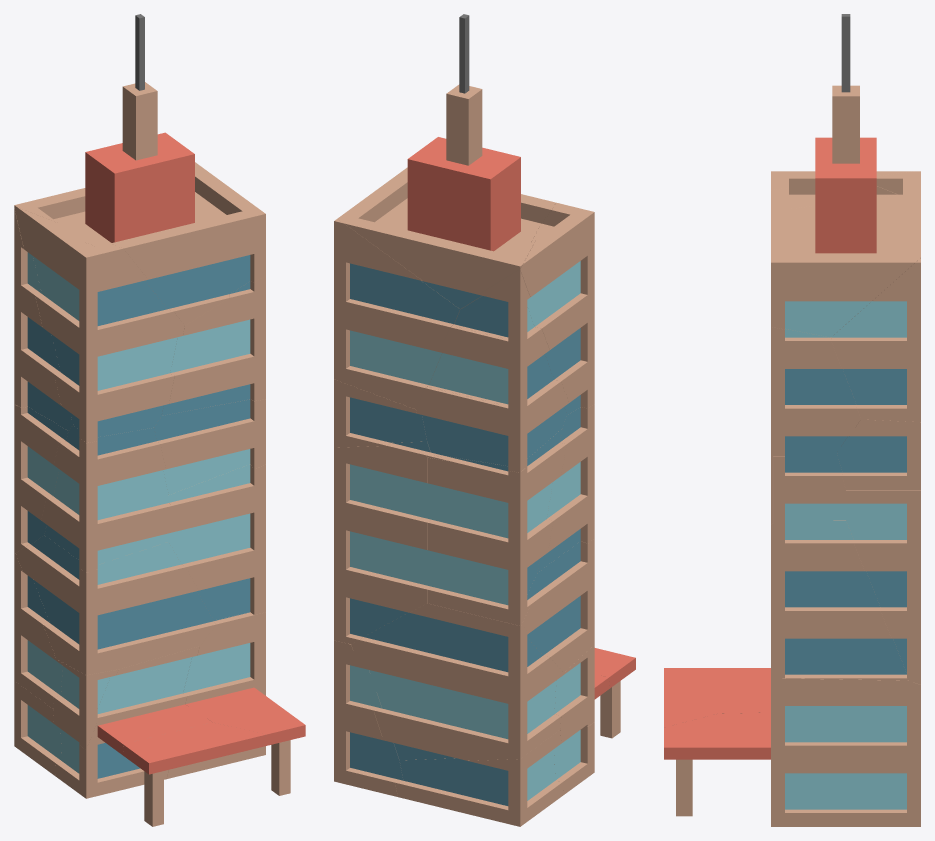
Rendered from BigHouse 2.2 Fractured.fbx.
3 views of the same model, side by side, from view 1: azimuth 30°, elevation 25°; view 2: azimuth 150°, elevation 25°; view 3: azimuth 270°, elevation 25° (orthographic). The views are drawn at different scales.
Parts seen in each view (by area): view 1: BigHouse_Type2_2_Breaking_cell.019, BigHouse_Type2_2_Breaking_cell.015, BigHouse_Type2_2_Breaking_cell.006, BigHouse_Type2_2_Breaking_cell.017, BigHouse_Type2_2_Breaking_cell.001, BigHouse_Type2_2_Breaking_cell.007, BigHouse_Type2_2_Breaking_cell.004, BigHouse_Type2_2_Breaking_cell.018, BigHouse_Type2_2_Breaking_cell.011, BigHouse_Type2_2_Breaking_cell.009, BigHouse_Type2_2_Breaking_cell.016, BigHouse_Type2_2_Breaking_cell.013 (+4 smaller); view 2: BigHouse_Type2_2_Breaking_cell.002, BigHouse_Type2_2_Breaking_cell.019, BigHouse_Type2_2_Breaking_cell.013, BigHouse_Type2_2_Breaking_cell.008, BigHouse_Type2_2_Breaking_cell.012, BigHouse_Type2_2_Breaking_cell.009, BigHouse_Type2_2_Breaking_cell.015, BigHouse_Type2_2_Breaking_cell.014, BigHouse_Type2_2_Breaking_cell, BigHouse_Type2_2_Breaking_cell.007, BigHouse_Type2_2_Breaking_cell.006, BigHouse_Type2_2_Breaking_cell.017 (+4 smaller); view 3: BigHouse_Type2_2_Breaking_cell.007, BigHouse_Type2_2_Breaking_cell.019, BigHouse_Type2_2_Breaking_cell.001, BigHouse_Type2_2_Breaking_cell.012, BigHouse_Type2_2_Breaking_cell.008, BigHouse_Type2_2_Breaking_cell.018, BigHouse_Type2_2_Breaking_cell.005, BigHouse_Type2_2_Breaking_cell.003, BigHouse_Type2_2_Breaking_cell.016, BigHouse_Type2_2_Breaking_cell.004, BigHouse_Type2_2_Breaking_cell.015.
Part boxes in pixels (x1,y1,x2,y2): BigHouse_Type2_2_Breaking_cell.019: (14,14,265,325); BigHouse_Type2_2_Breaking_cell.015: (14,207,184,442); BigHouse_Type2_2_Breaking_cell.006: (16,535,216,675); BigHouse_Type2_2_Breaking_cell.017: (41,425,172,572); BigHouse_Type2_2_Breaking_cell.001: (168,464,265,620); BigHouse_Type2_2_Breaking_cell.007: (166,612,305,795); BigHouse_Type2_2_Breaking_cell.004: (55,646,211,798); BigHouse_Type2_2_Breaking_cell.018: (161,275,265,415); BigHouse_Type2_2_Breaking_cell.011: (154,399,265,494); BigHouse_Type2_2_Breaking_cell.009: (16,217,72,430); BigHouse_Type2_2_Breaking_cell.016: (123,722,265,826); BigHouse_Type2_2_Breaking_cell.013: (14,404,68,552); BigHouse_Type2_2_Breaking_cell.002: (351,603,563,760); BigHouse_Type2_2_Breaking_cell.019: (337,14,555,309); BigHouse_Type2_2_Breaking_cell.013: (427,429,566,625); BigHouse_Type2_2_Breaking_cell.008: (334,441,431,644); BigHouse_Type2_2_Breaking_cell.012: (334,219,460,409); BigHouse_Type2_2_Breaking_cell.009: (422,276,568,469); BigHouse_Type2_2_Breaking_cell.015: (519,202,594,414); BigHouse_Type2_2_Breaking_cell.014: (395,730,563,826); BigHouse_Type2_2_Breaking_cell: (416,269,522,472); BigHouse_Type2_2_Breaking_cell.007: (334,640,403,796); BigHouse_Type2_2_Breaking_cell.006: (522,538,594,672); BigHouse_Type2_2_Breaking_cell.017: (537,404,594,572); BigHouse_Type2_2_Breaking_cell.007: (664,678,920,826); BigHouse_Type2_2_Breaking_cell.019: (771,14,920,337); BigHouse_Type2_2_Breaking_cell.001: (771,520,907,680); BigHouse_Type2_2_Breaking_cell.012: (831,258,920,421); BigHouse_Type2_2_Breaking_cell.008: (846,490,920,684); BigHouse_Type2_2_Breaking_cell.018: (771,327,860,455); BigHouse_Type2_2_Breaking_cell.005: (837,419,920,490); BigHouse_Type2_2_Breaking_cell.003: (773,452,845,523); BigHouse_Type2_2_Breaking_cell.016: (664,668,718,727); BigHouse_Type2_2_Breaking_cell.004: (718,668,770,713); BigHouse_Type2_2_Breaking_cell.015: (771,171,913,208).
Size of the model in its own units: 572 by 2233 by 679.
